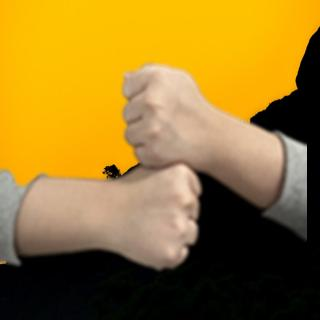CAREFUL: (38, 64, 278, 267)
